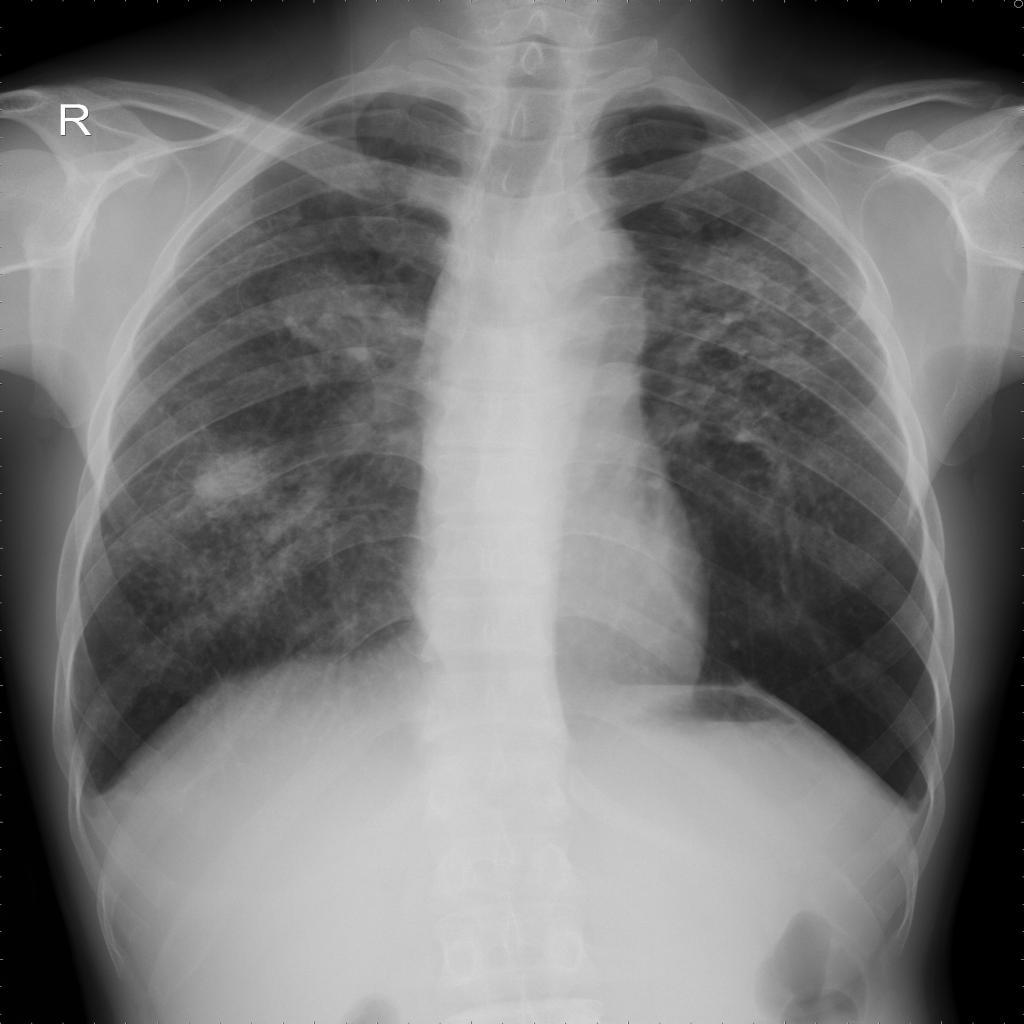Nodule: (682, 241, 794, 313), (263, 262, 351, 321), (195, 450, 268, 501)
